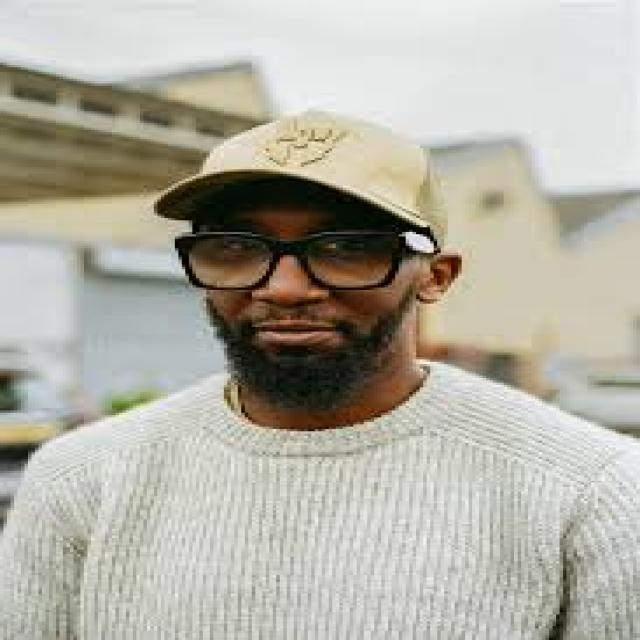specticles: (172, 215, 468, 300)
